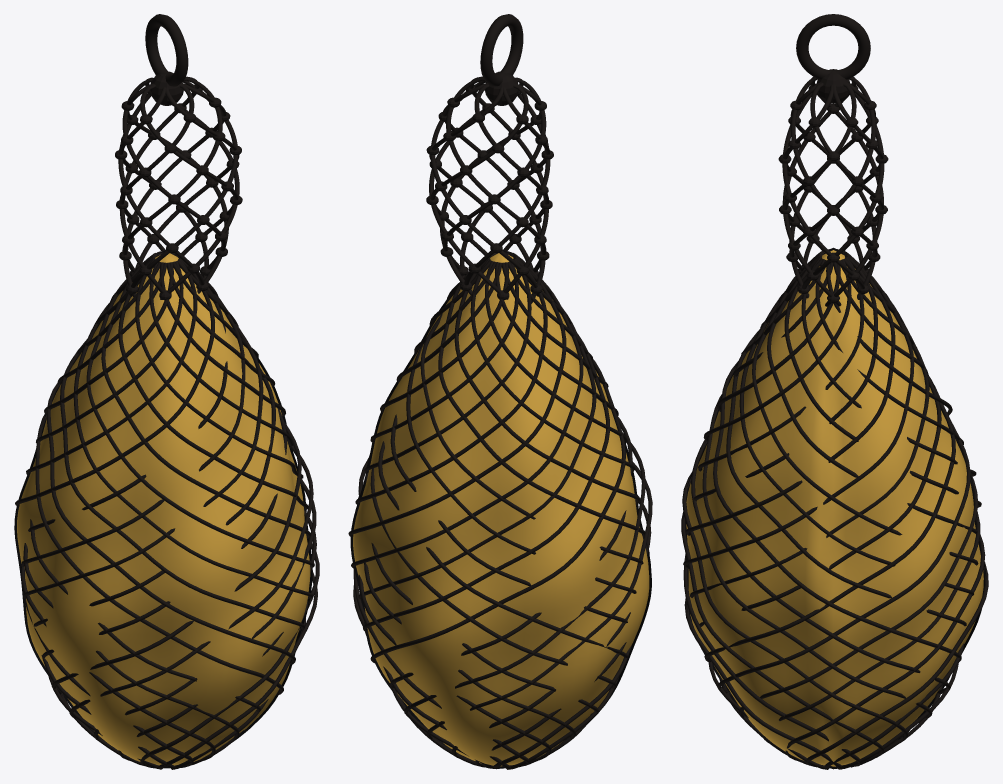
The model's file is heunetz-voll-4kg.glb.
3 renders of one model, left to right at view 1: azimuth 30°, elevation 25°; view 2: azimuth 150°, elevation 25°; view 3: azimuth 270°, elevation 25°, orthographic.
Parts seen in each view (by area): view 1: heu_koerper, netz, netz_leer_oben, knoten_leer_oben, schlaufe, knoten; view 2: heu_koerper, netz, netz_leer_oben, knoten_leer_oben, schlaufe, knoten; view 3: heu_koerper, netz, netz_leer_oben, knoten_leer_oben, schlaufe, knoten.
Part boxes in pixels (x1,y1,x2,y2): heu_koerper: (14, 250, 312, 768); netz: (15, 250, 319, 769); netz_leer_oben: (118, 76, 239, 299); knoten_leer_oben: (115, 84, 242, 300); schlaufe: (145, 14, 188, 86); knoten: (150, 71, 183, 105); heu_koerper: (350, 250, 651, 768); netz: (348, 250, 652, 769); netz_leer_oben: (429, 76, 550, 303); knoten_leer_oben: (426, 84, 553, 299); schlaufe: (480, 14, 523, 86); knoten: (485, 71, 518, 105); heu_koerper: (683, 247, 986, 769); netz: (681, 249, 988, 769); netz_leer_oben: (782, 76, 884, 306); knoten_leer_oben: (778, 83, 888, 303); schlaufe: (796, 14, 870, 79); knoten: (816, 69, 850, 103).
Bounding box in the file's own units: 45.42 × 122 × 45.38.
